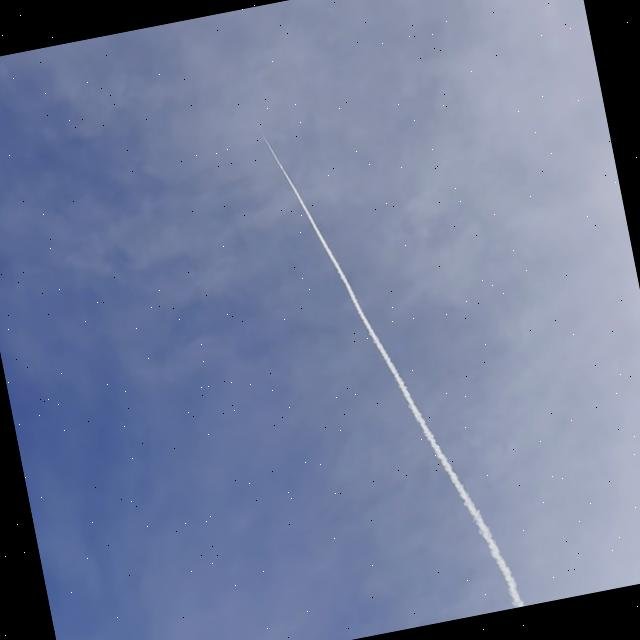smoke_trail_no_rocket: (264, 137, 525, 608)
